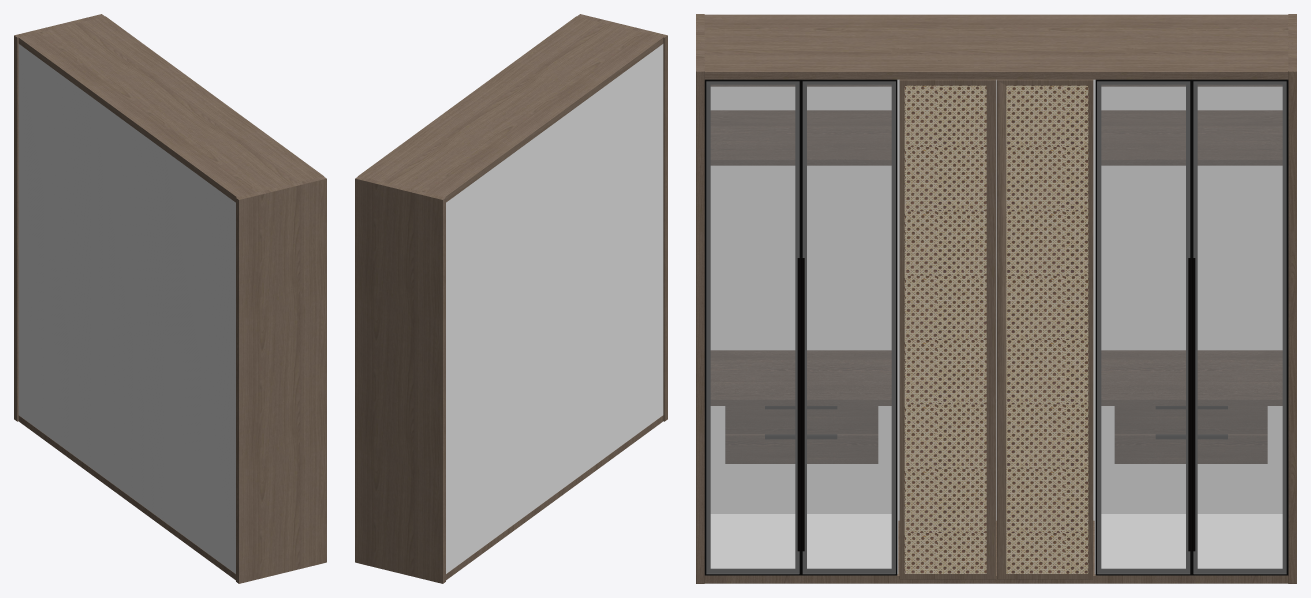
Rendered from damo.fbx.
The picture shows the model from 3 angles, left to right: view 1: azimuth 30°, elevation 25°; view 2: azimuth 150°, elevation 25°; view 3: azimuth 270°, elevation 25°; orthographic projection. The views are drawn at different scales.
Parts seen in each view (by area): view 1: G_2, G_41, G_14, G_8, G_4, G_3, G_1; view 2: G_3, G_41, G_8, G_14, G_4, G_2, G_1; view 3: G_40, G_39, G_38, G_37, G_35_1, G_35, G_8, G_14, G_4, G_20, G_18, G_19 (+12 smaller).
Part boxes in pixels (bbox=[...]): G_2: bbox=[236, 176, 326, 583]; G_41: bbox=[91, 97, 164, 521]; G_14: bbox=[18, 44, 91, 467]; G_8: bbox=[164, 151, 235, 573]; G_4: bbox=[18, 16, 323, 202]; G_3: bbox=[14, 14, 104, 421]; G_1: bbox=[18, 415, 235, 580]; G_3: bbox=[355, 176, 445, 583]; G_41: bbox=[517, 97, 590, 521]; G_8: bbox=[590, 44, 663, 467]; G_14: bbox=[446, 151, 517, 573]; G_4: bbox=[358, 16, 663, 202]; G_2: bbox=[577, 14, 667, 421]; G_1: bbox=[446, 415, 663, 580]; G_40: bbox=[899, 79, 996, 579]; G_39: bbox=[997, 79, 1093, 579]; G_38: bbox=[1192, 79, 1288, 575]; G_37: bbox=[1095, 79, 1191, 575]; G_35_1: bbox=[704, 79, 800, 575]; G_35: bbox=[801, 79, 897, 575]; G_8: bbox=[710, 86, 891, 513]; G_14: bbox=[1101, 86, 1282, 513]; G_4: bbox=[704, 14, 1288, 79]; G_20: bbox=[1101, 350, 1282, 405]; G_18: bbox=[1101, 110, 1282, 165]; G_19: bbox=[710, 350, 891, 405].
Bounding box in the file's own units: 623 × 2550 × 2708.
